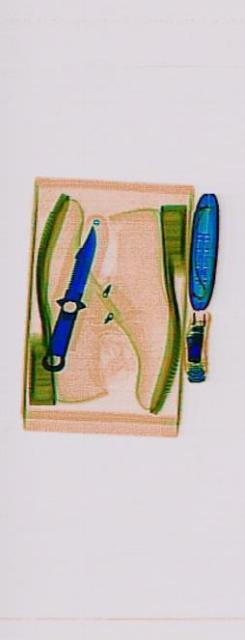Knife: (37, 204, 102, 393)
